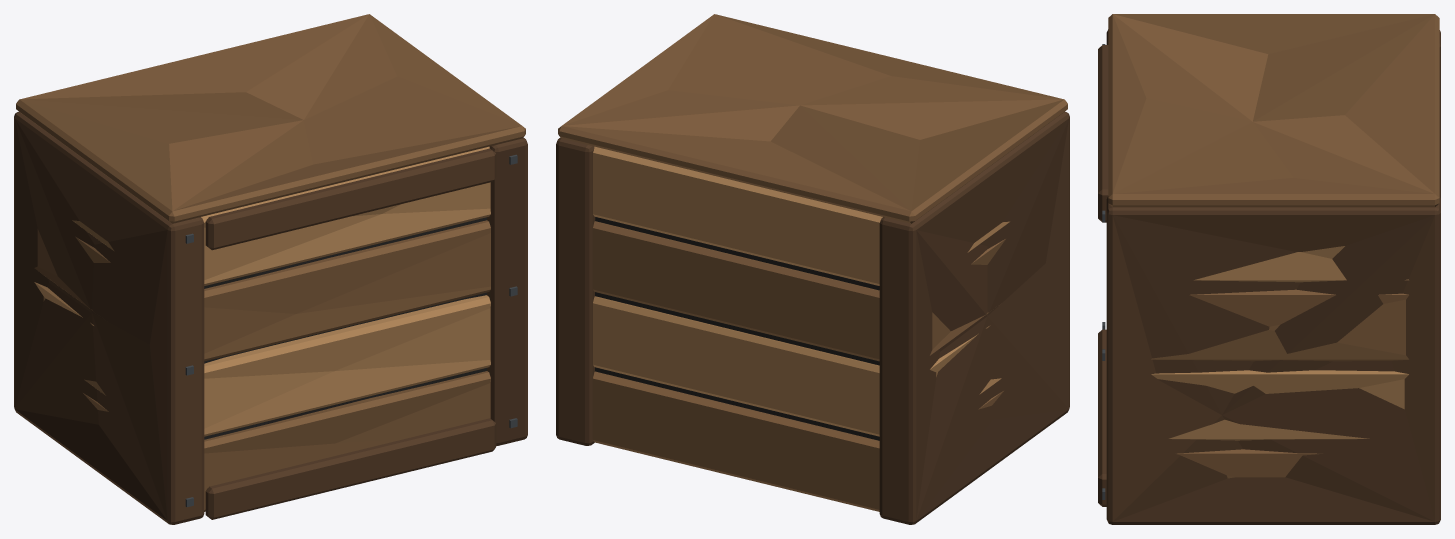
The model's file is crate_wood_sredniy_idle.glb.
3 renders of one model, left to right at view 1: azimuth 30°, elevation 25°; view 2: azimuth 150°, elevation 25°; view 3: azimuth 270°, elevation 25°, orthographic. The views are drawn at different scales.
Parts seen in each view (by area): view 1: crate_wood_sredniy_idle; view 2: crate_wood_sredniy_idle; view 3: crate_wood_sredniy_idle.
Part boxes in pixels (<box>): crate_wood_sredniy_idle: <box>14,14,527,524</box>; crate_wood_sredniy_idle: <box>556,14,1069,524</box>; crate_wood_sredniy_idle: <box>1098,14,1440,524</box>.
Bounding box in the file's own units: 0.6 × 0.5 × 0.47.
1 material, 1 textured.
